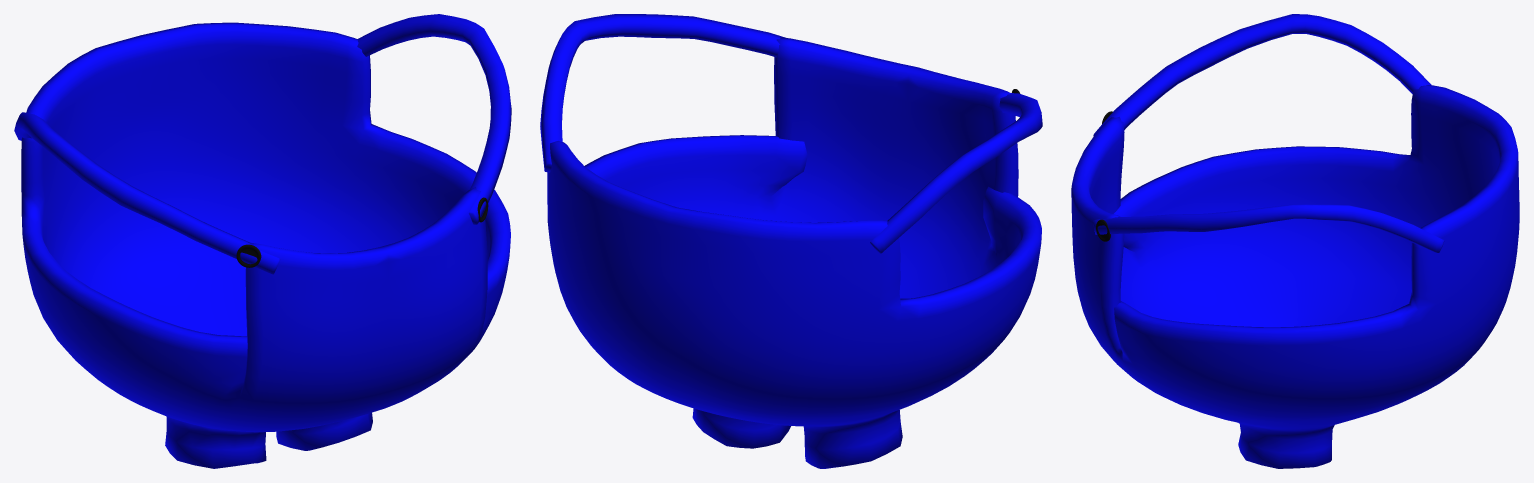
Rendered from minion_baju.obj.
The picture shows the model from 3 angles, left to right: view 1: azimuth 30°, elevation 25°; view 2: azimuth 150°, elevation 25°; view 3: azimuth 270°, elevation 25°; orthographic projection. The views are drawn at different scales.
Parts seen in each view (by area): view 1: Plane.003_Plane.004, Circle.001; view 2: Plane.003_Plane.004; view 3: Plane.003_Plane.004.
Part boxes in pixels (<box>): Plane.003_Plane.004: <box>14,14,511,468</box>; Circle.001: <box>236,197,488,267</box>; Plane.003_Plane.004: <box>540,14,1042,468</box>; Plane.003_Plane.004: <box>1071,14,1519,468</box>.
Bounding box in the file's own units: 3.11 × 2.47 × 3.01.
